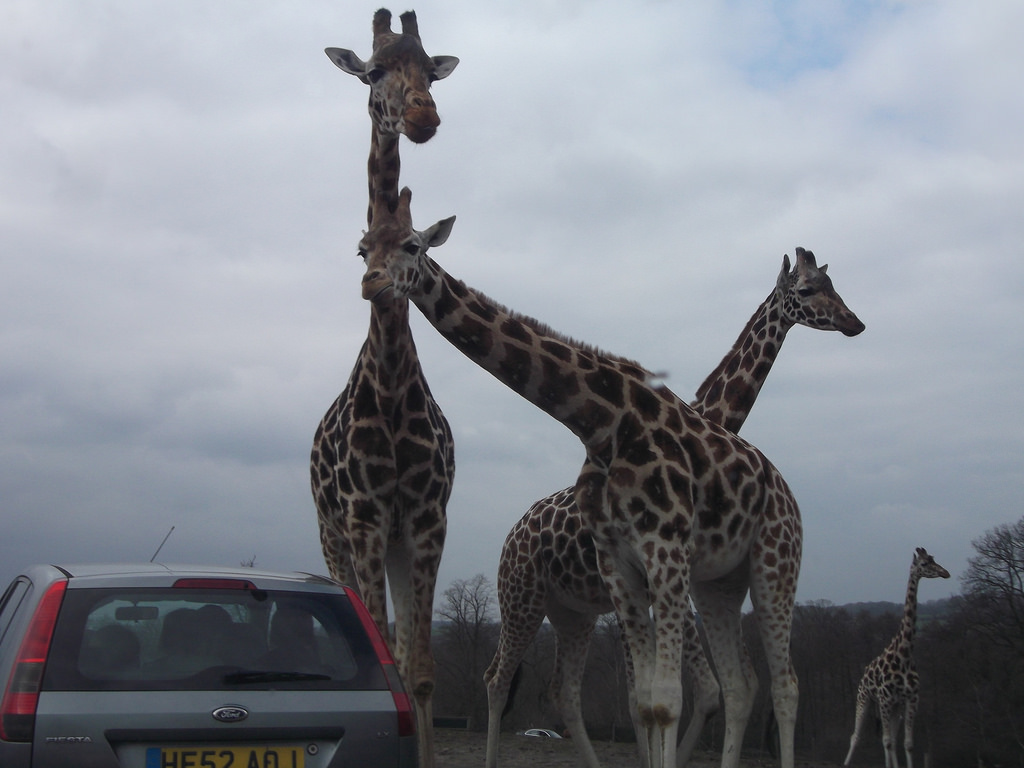giraffe: (361, 208, 805, 749), (494, 225, 907, 726), (288, 6, 459, 706)
